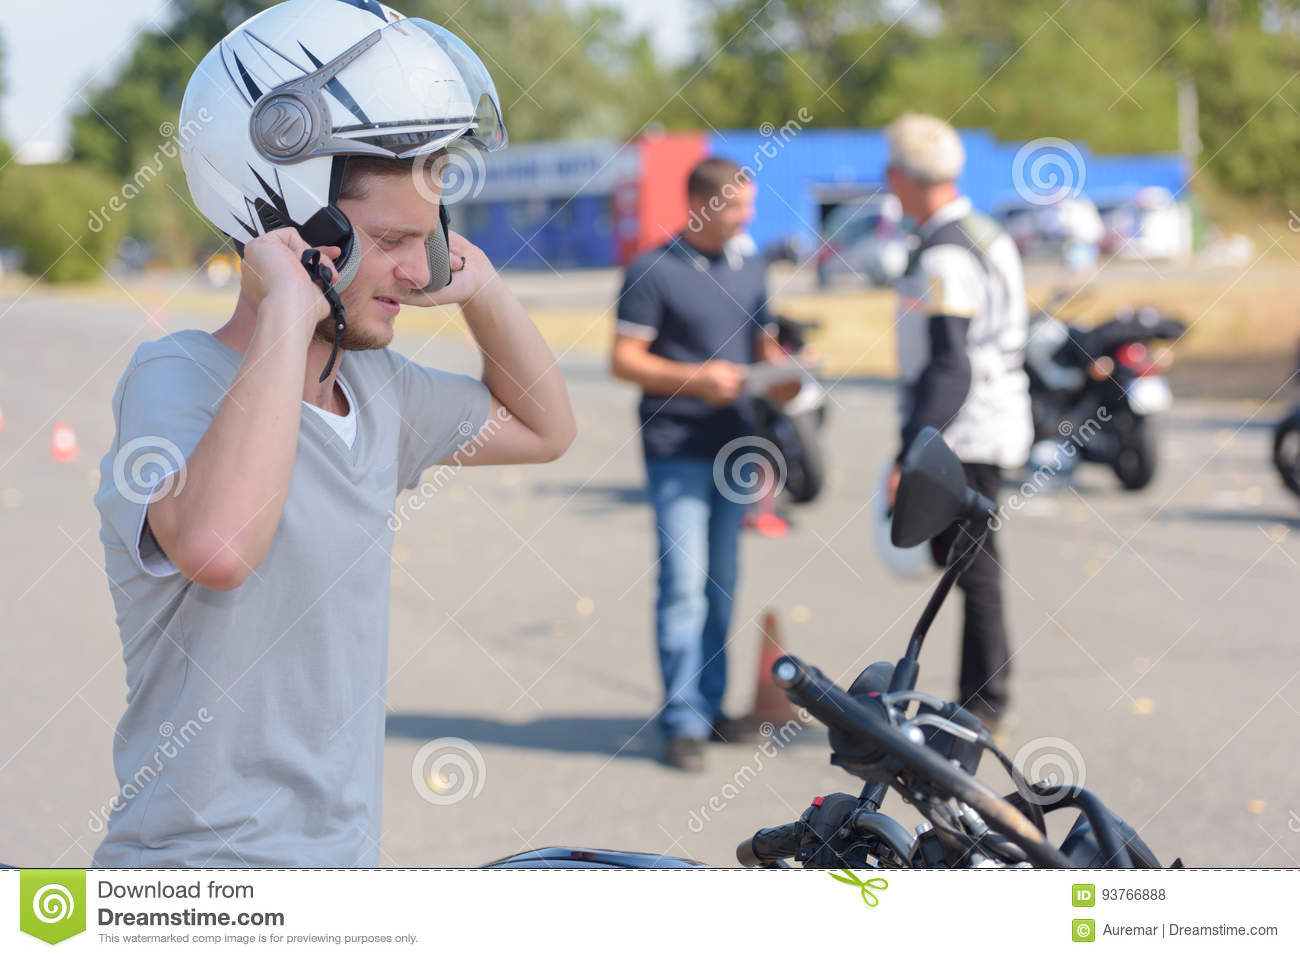helmet: (177, 11, 517, 235)
